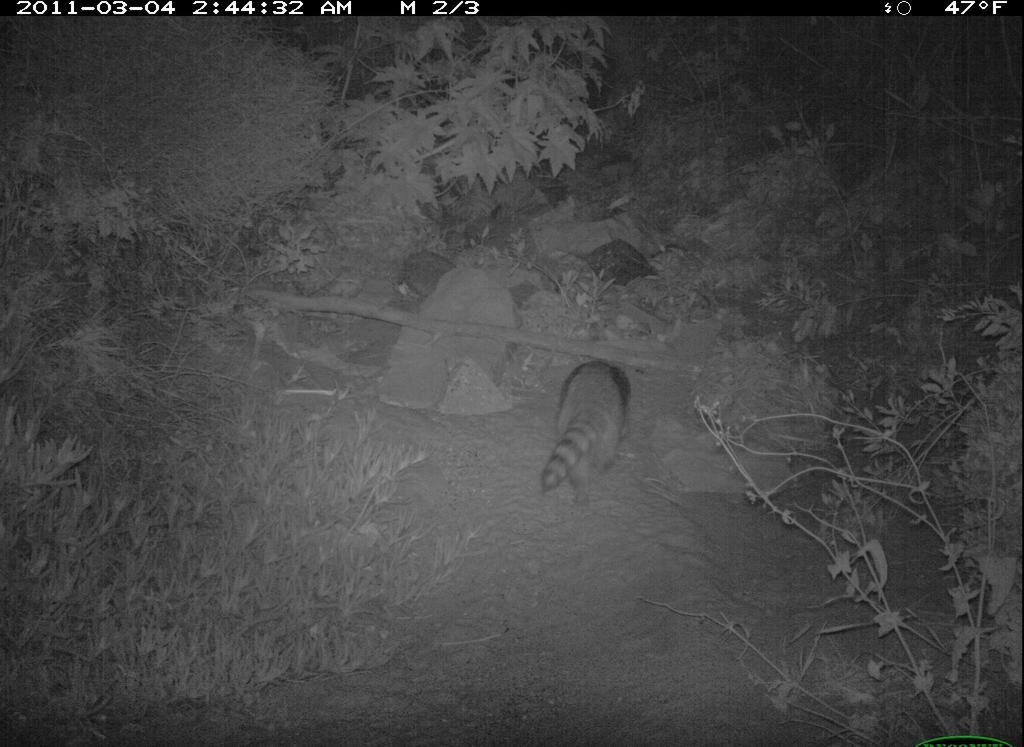raccoon: (536, 346, 639, 519)
